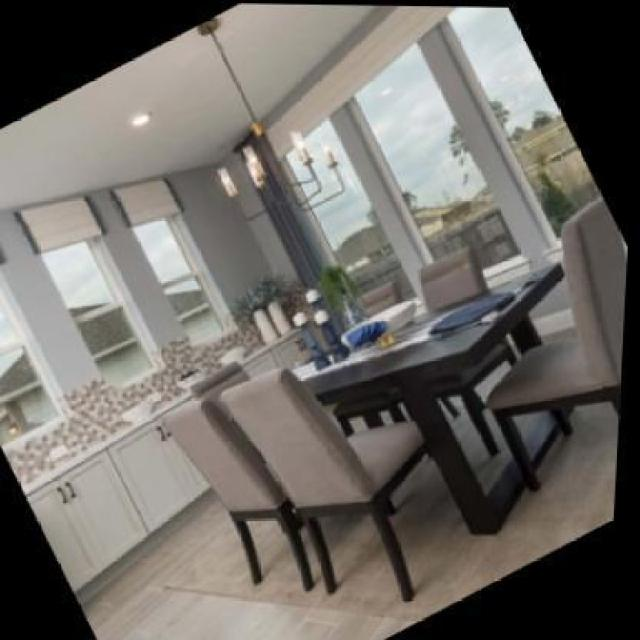tables: (289, 260, 565, 535)
